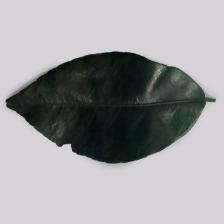healthy: (7, 49, 206, 164)
